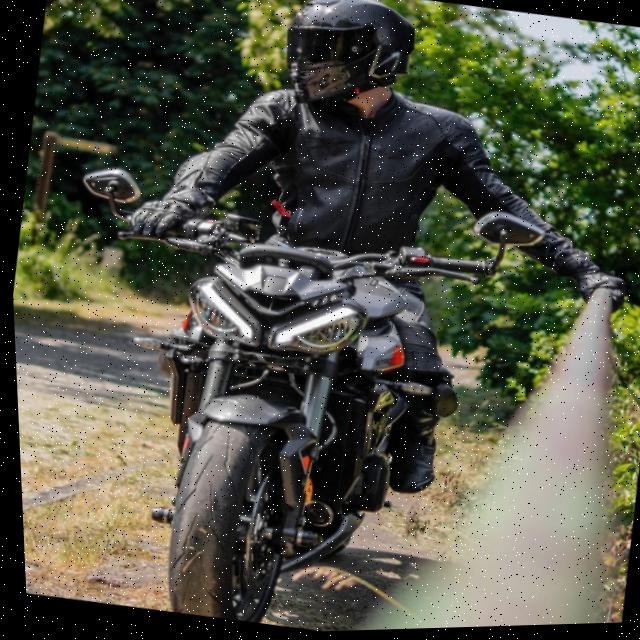helmet: (266, 0, 429, 128)
